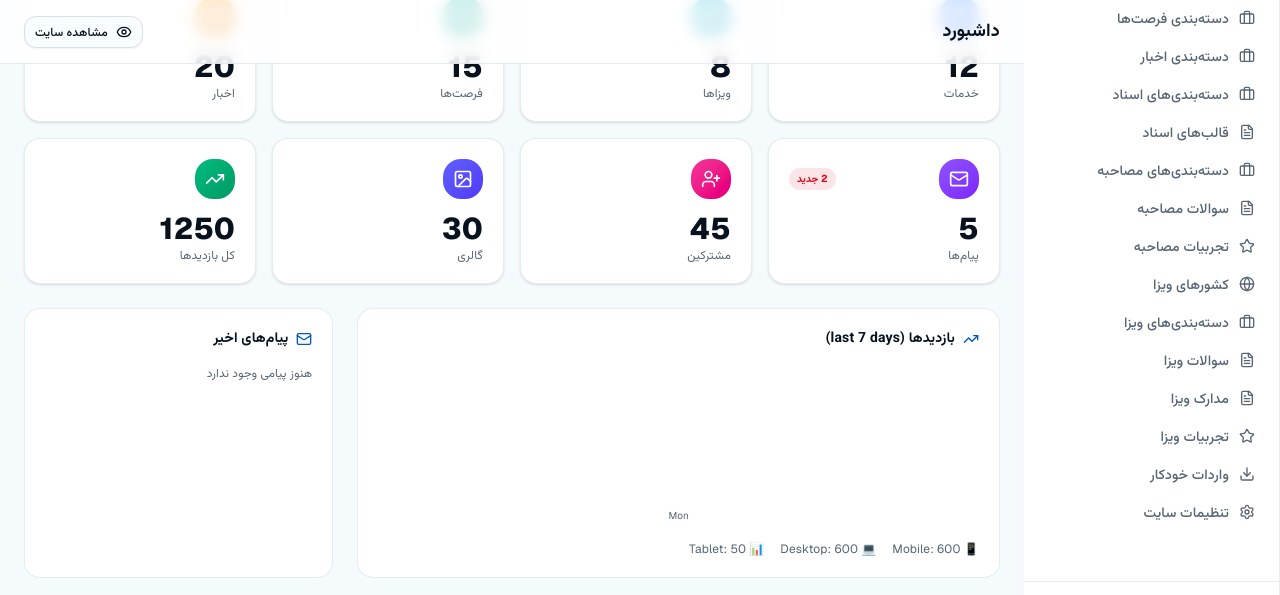
Settings Panel Unit Tests › Section Headers - Requirement 7.3 › renders Map Embed section header with Persian translation
The width and height of the screenshot is (1280, 595).
(page scrolled)
expect the text "تنظیمات سایت" is shown: met, box x1=1144 y1=502 x2=1229 y2=522
Click the button "تنظیمات سایت" at point(1152, 512), box x1=1036 y1=494 x2=1267 y2=530
(page scrolled)
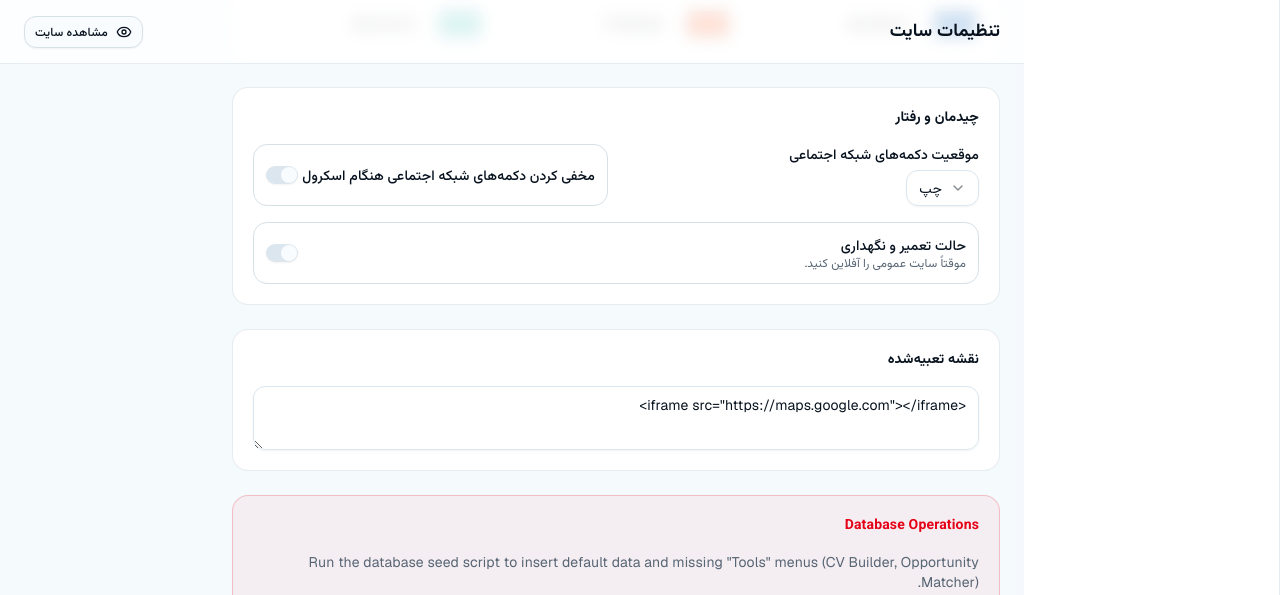
expect the heading "نقشه تعبیه‌شده" is shown: met, box x1=888 y1=349 x2=979 y2=371
